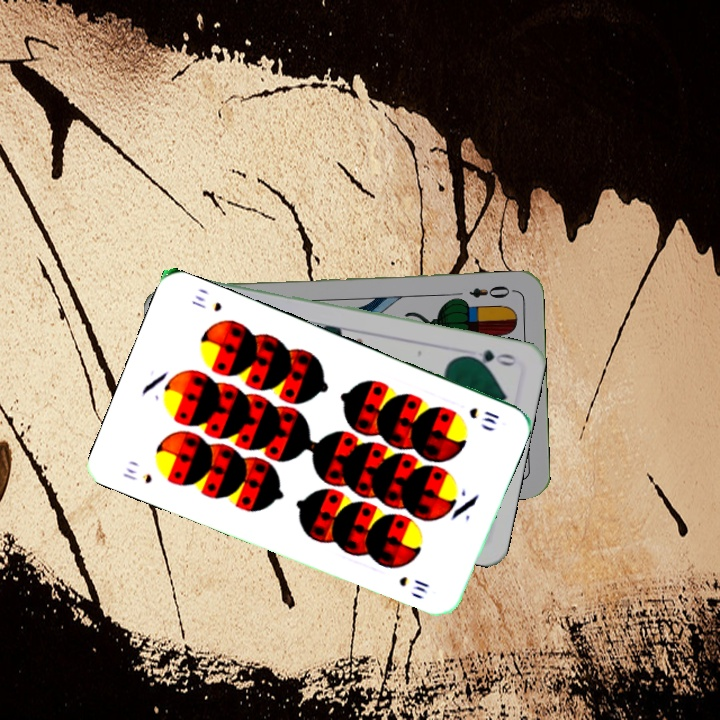EO: (465, 281, 517, 301)
GO: (460, 345, 519, 369)
S10: (464, 403, 502, 427), (118, 463, 155, 486)
